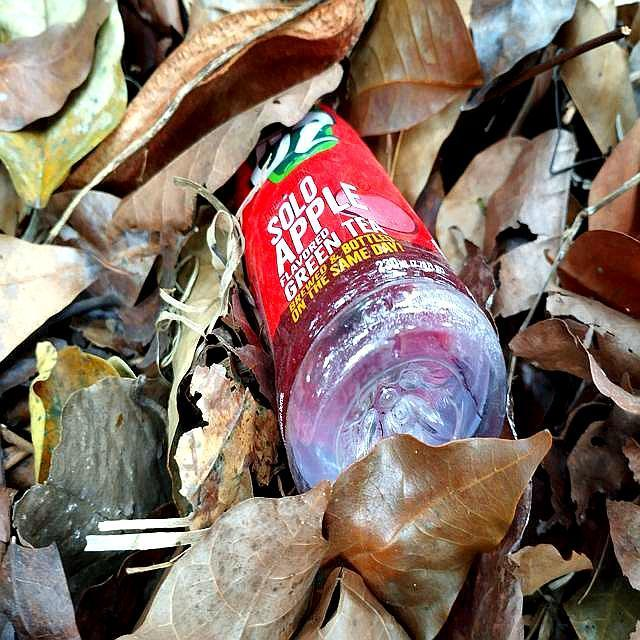Non-biodegradable: (229, 102, 511, 495)
